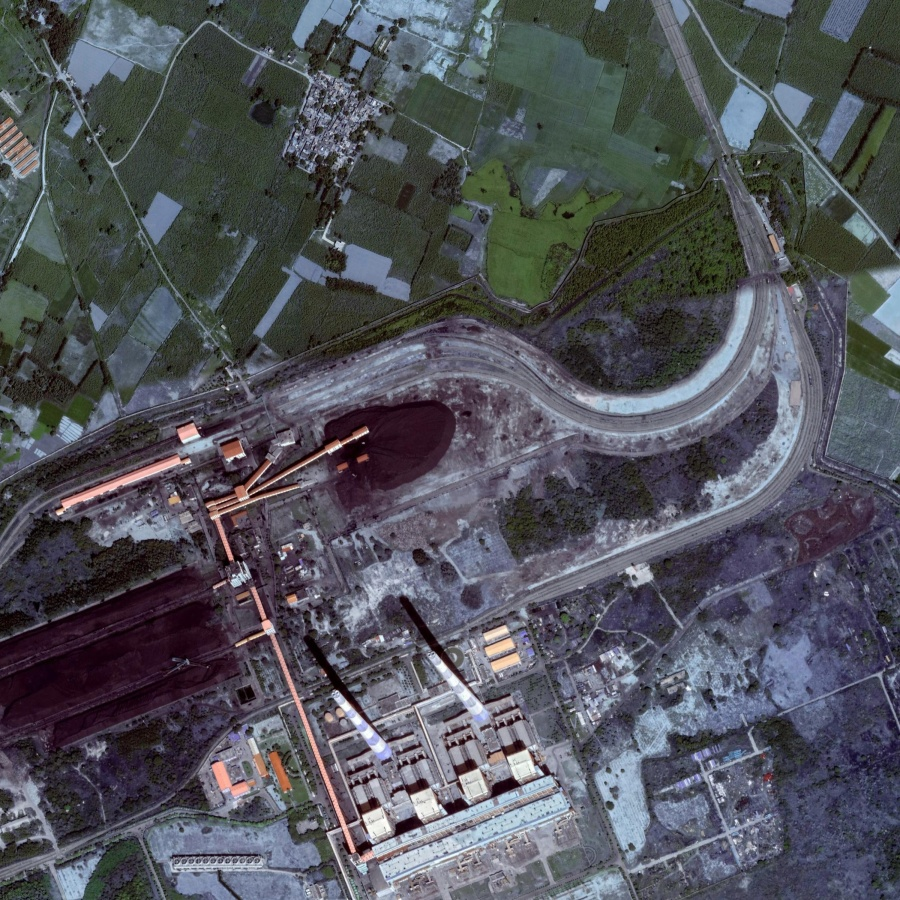PowerPlant: (293, 588, 530, 794)
